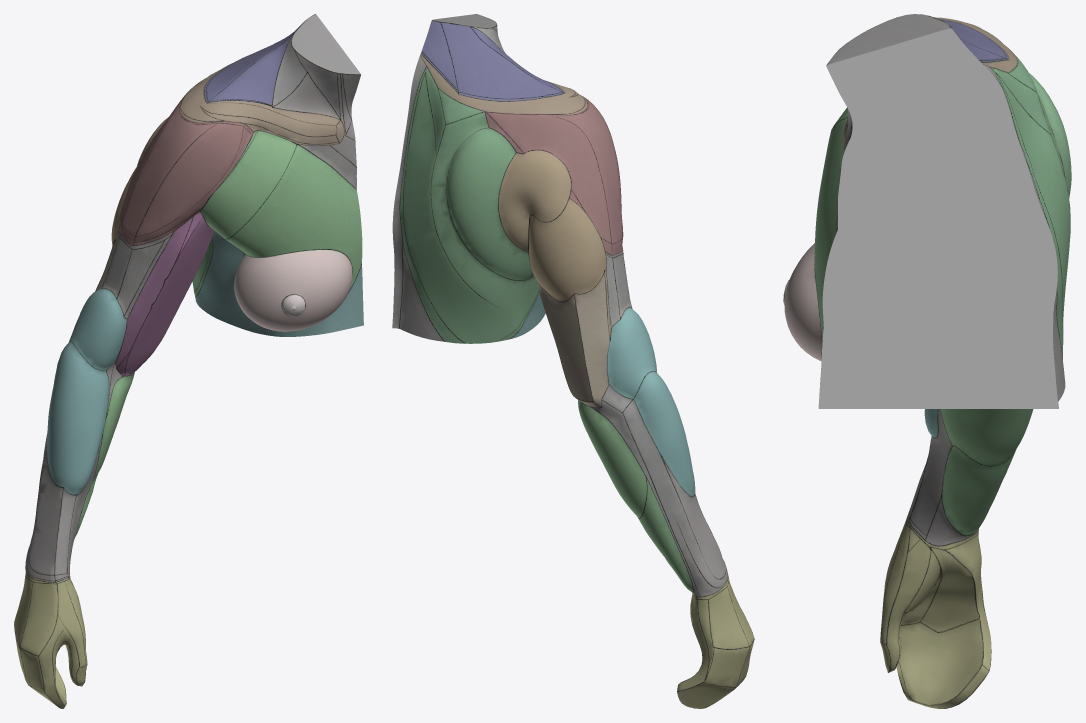
Rendered from 人物其它_20260324195424_opt.glb.
3 views of the same model, side by side, from view 1: azimuth 30°, elevation 25°; view 2: azimuth 150°, elevation 25°; view 3: azimuth 270°, elevation 25° (orthographic). The views are drawn at different scales.
Parts seen in each view (by area): view 1: LowUv_Block1; view 2: LowUv_Block1; view 3: Cap005, LowUv_Block1.
Part boxes in pixels (<box>): LowUv_Block1: <box>14,14,363,708</box>; LowUv_Block1: <box>392,14,754,708</box>; Cap005: <box>818,28,1058,408</box>; LowUv_Block1: <box>783,14,1071,708</box>.
Size of the model in its own units: 0.4114 by 0.8003 by 0.244.
2 materials, 1 textured.
